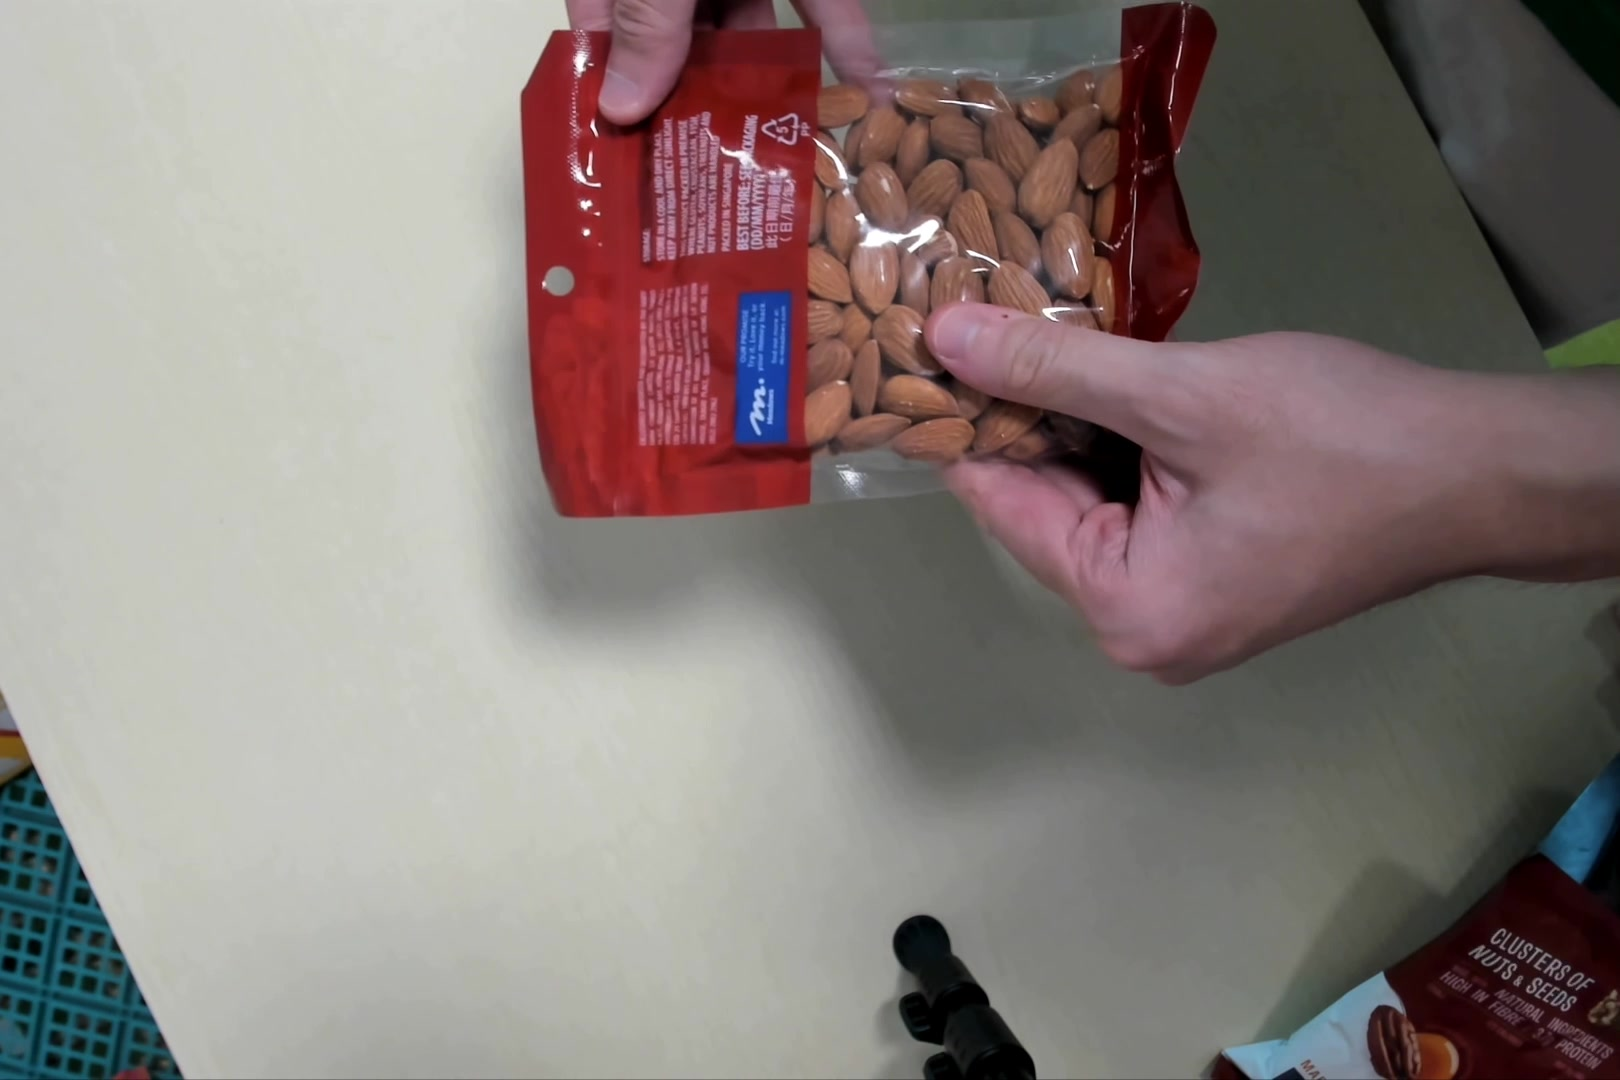Nuts_100-199g_NonHalal_NonHealthy: (513, 24, 1191, 512)
